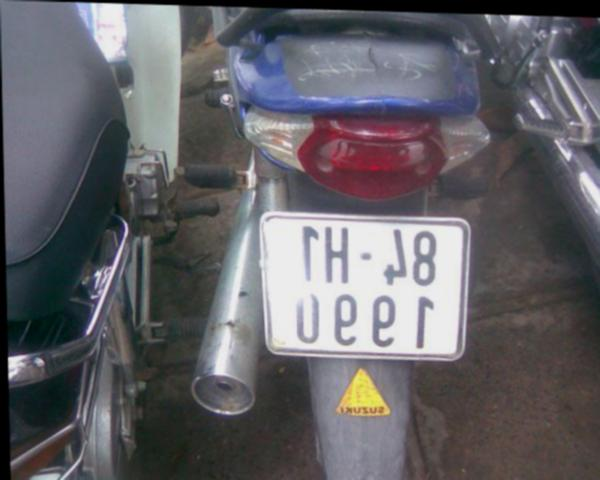License_Plate: (251, 207, 481, 358)
